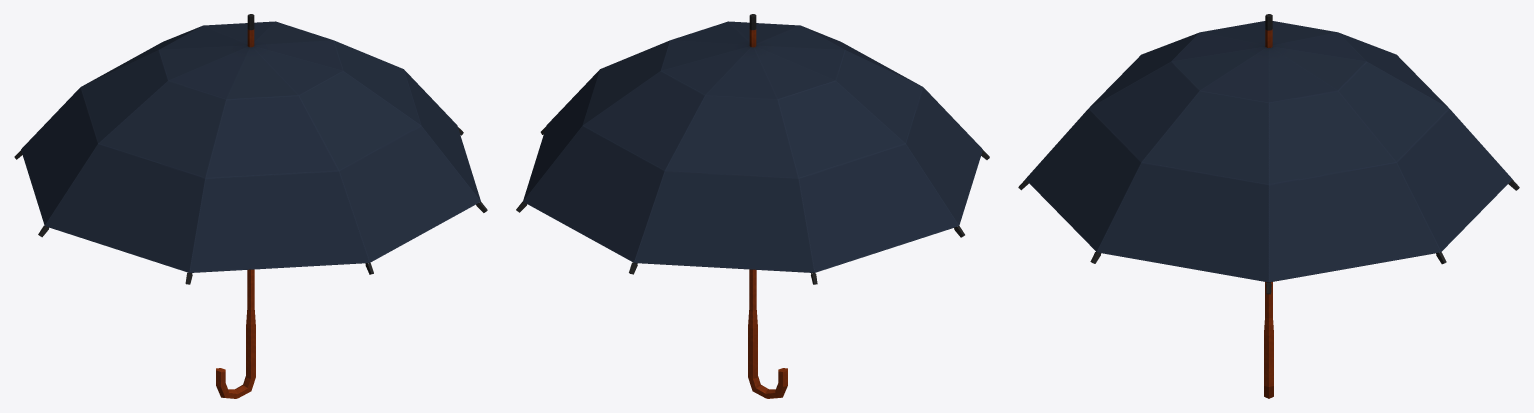
The picture shows the model from 3 angles, left to right: view 1: azimuth 30°, elevation 25°; view 2: azimuth 150°, elevation 25°; view 3: azimuth 270°, elevation 25°; orthographic projection. The views are drawn at different scales.
Parts seen in each view (by area): view 1: Umbrella_mesh; view 2: Umbrella_mesh; view 3: Umbrella_mesh.
Boxes of the visible parts, x1=… form: Umbrella_mesh: x1=14, y1=14, x2=487, y2=398; Umbrella_mesh: x1=516, y1=14, x2=989, y2=398; Umbrella_mesh: x1=1018, y1=14, x2=1519, y2=398.
Bounding box in the file's own units: 8.43 × 7.21 × 8.43.
1 material, 1 textured.
